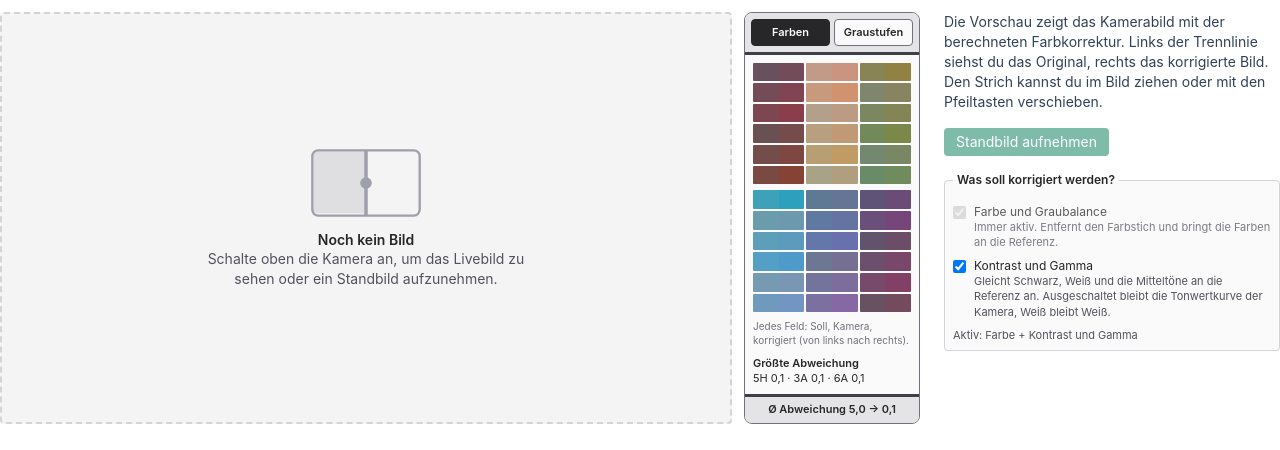
PreviewTab › switches to grayscale and back to colors
Step 1. Click the button with test id "view-grays" → (874, 32), box [834,19,913,46]
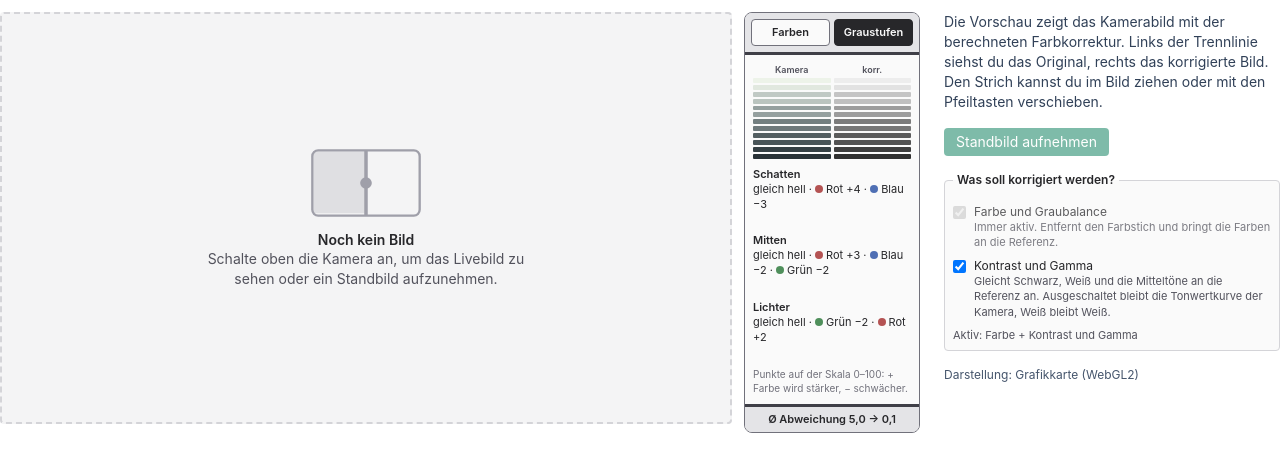
Result: the picture with test id "gray-wedge" is shown at [753,62,911,158]
Step 2. Click the button with test id "view-colors" → (790, 32), box [751,19,830,46]
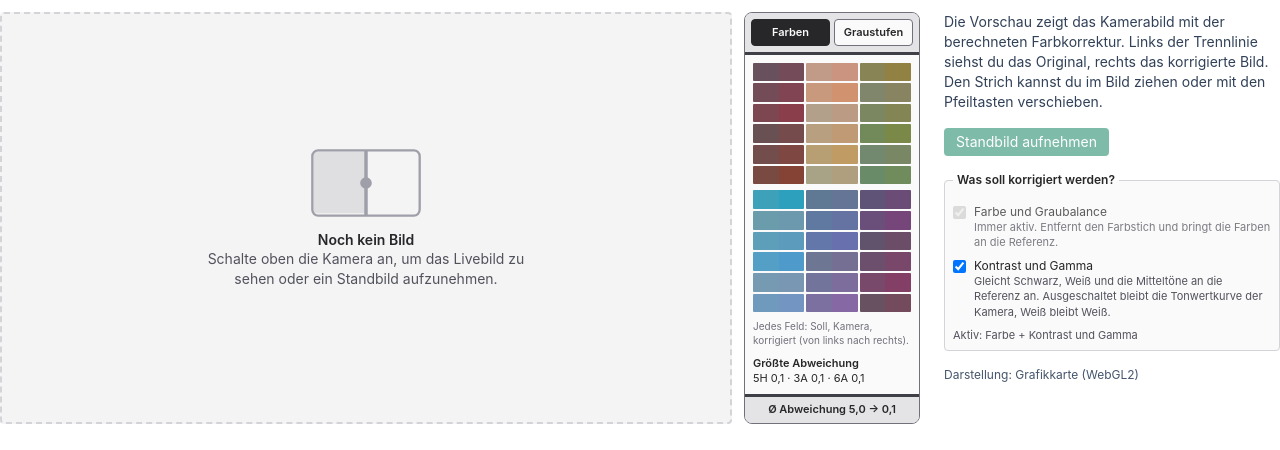
Result: the picture with test id "color-tiles" is shown at [753,62,911,312]
